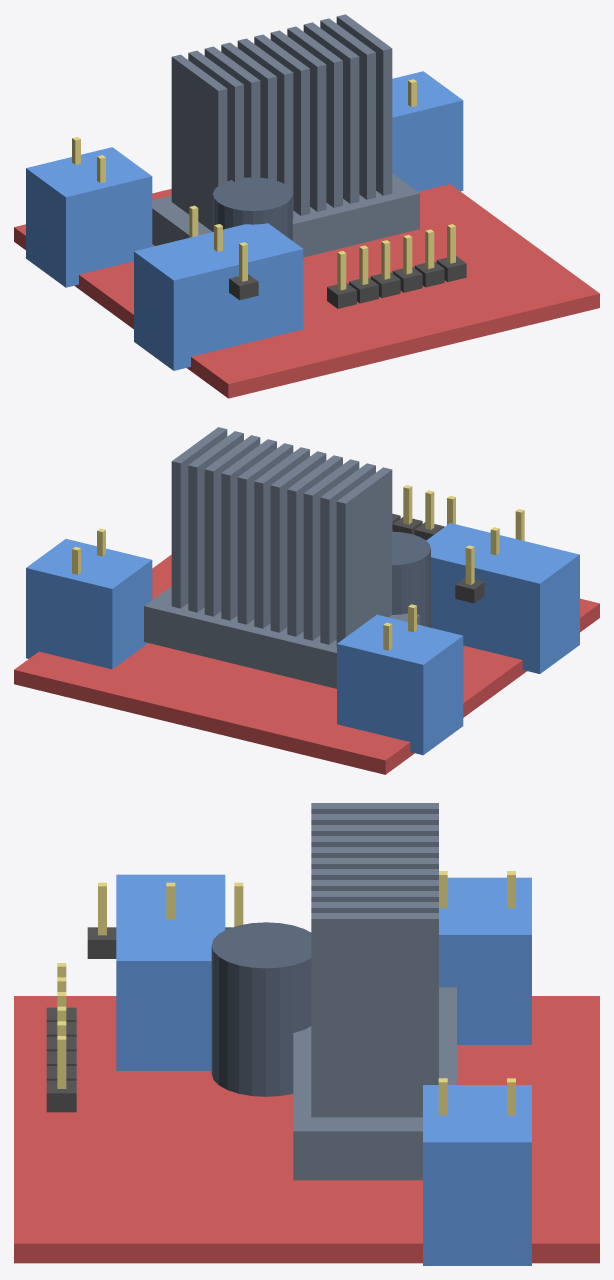
The model's file is l298n-motor-driver.glb.
3 renders of one model, top to bottom at view 1: azimuth 30°, elevation 25°; view 2: azimuth 150°, elevation 25°; view 3: azimuth 270°, elevation 25°, orthographic. The views are drawn at different scales.
Visible parts, largest first — view 1: l298n-motor-driver_mesh; view 2: l298n-motor-driver_mesh; view 3: l298n-motor-driver_mesh.
Boxes of the visible parts, bbox=[...] form: l298n-motor-driver_mesh: bbox=[14, 14, 599, 398]; l298n-motor-driver_mesh: bbox=[14, 427, 599, 774]; l298n-motor-driver_mesh: bbox=[14, 803, 599, 1265].
Bounding box in the file's own units: 46.5 × 22.56 × 43.
